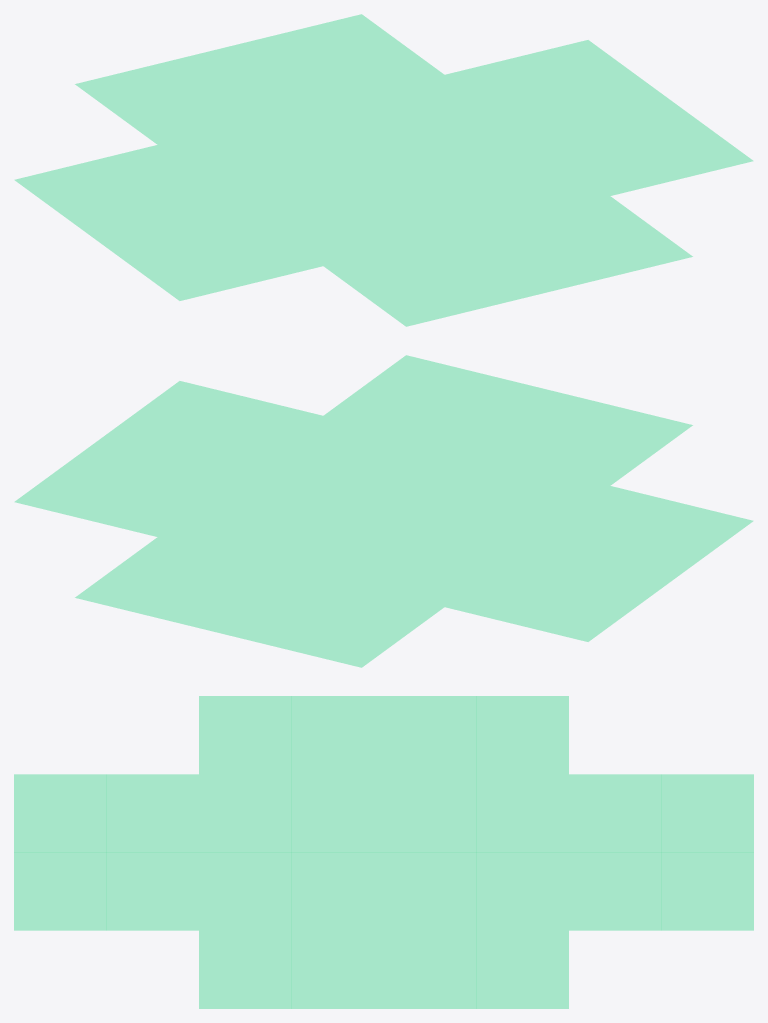
Rendered from navmesh.glb.
3 renders of one model, top to bottom at view 1: azimuth 30°, elevation 25°; view 2: azimuth 150°, elevation 25°; view 3: azimuth 270°, elevation 25°, orthographic. The views are drawn at different scales.
Visible parts, largest first — view 1: NAVMESH; view 2: NAVMESH; view 3: NAVMESH.
Part boxes in pixels (x1,y1,x2,y2): NAVMESH: (15,14,752,326); NAVMESH: (15,355,752,667); NAVMESH: (14,696,753,1008).
Bounding box in the file's own units: 2 × 0 × 2.
